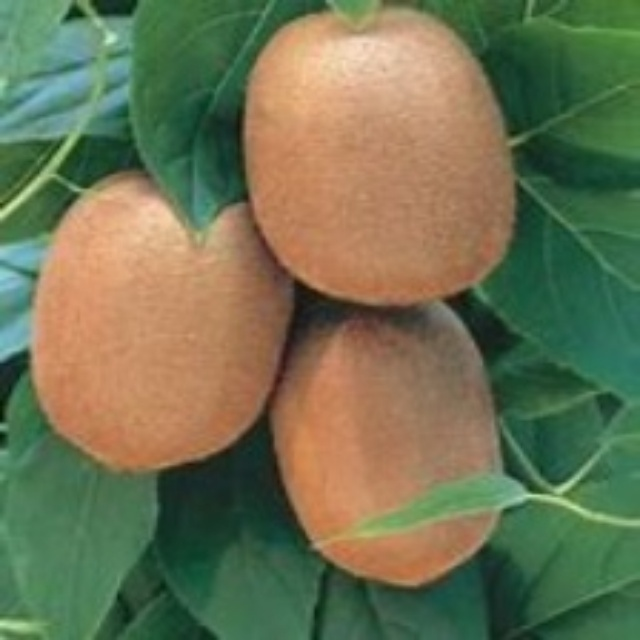kiwi: (243, 13, 518, 313), (37, 171, 299, 481), (273, 290, 505, 596)
